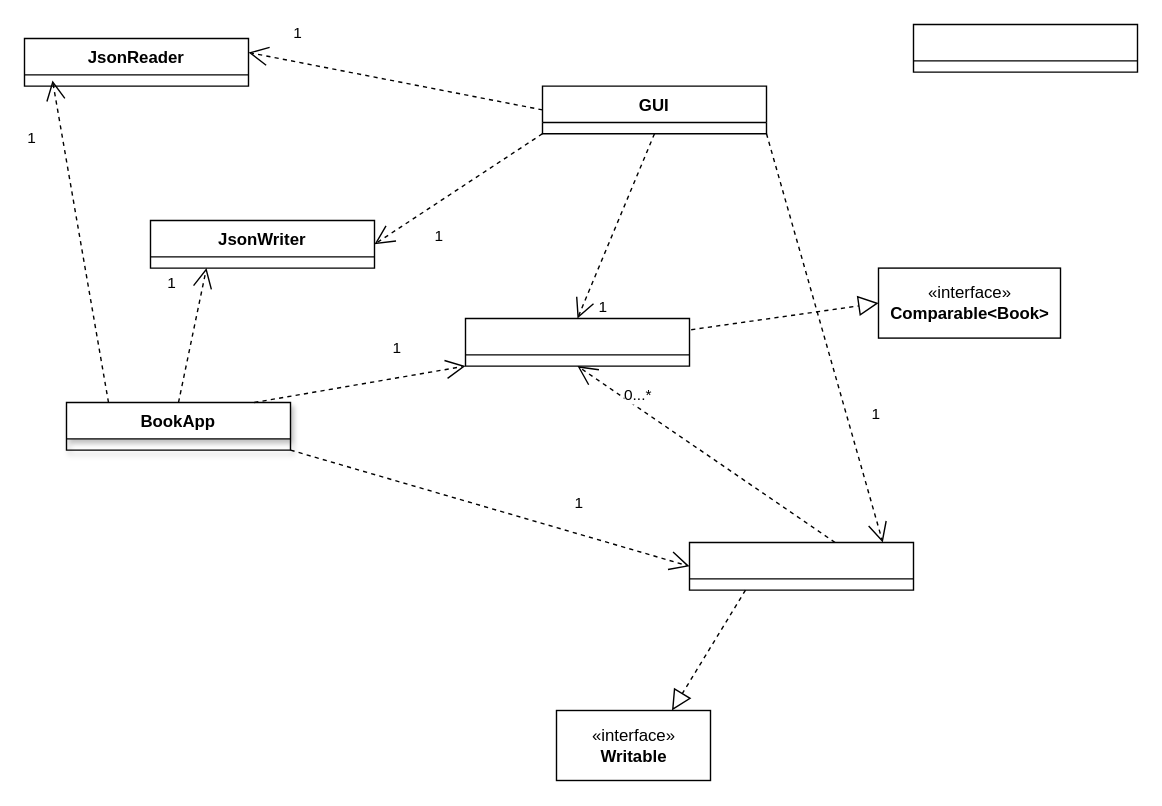
The diagram is 1162 pixels wide and 806 high, and some of its shapes have lost their labels. The centre of each missing label's shape, as x and y in pixels:
"Book" goes at point 577,341.
"HomePage" goes at point 1025,47.
"UserAccount" goes at point 800,565.
